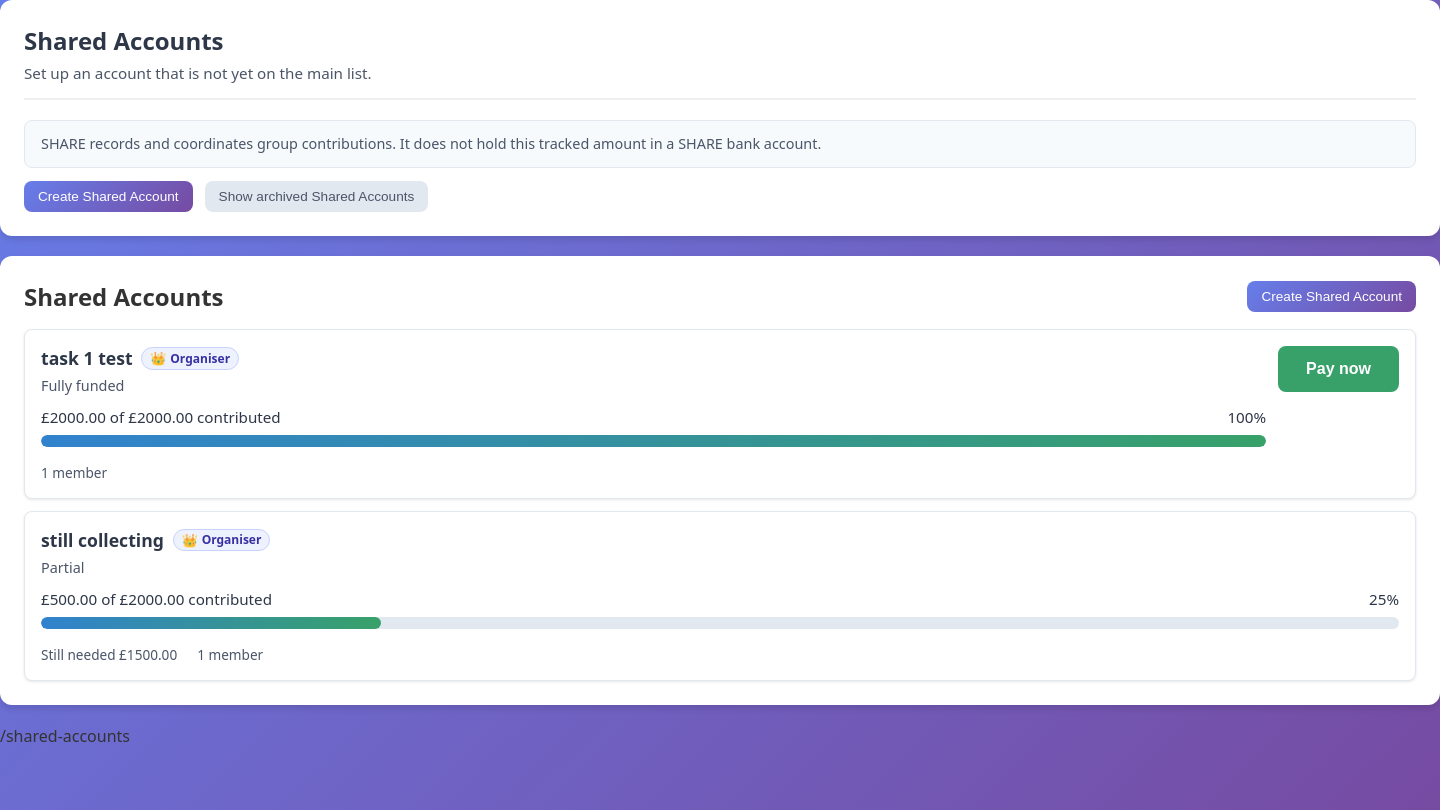
SharedAccounts list Pay now › opens the Final payment form for the funded pot
The image size is (1440, 810).
Click the button "Pay now": (1339, 369) [1278,346,1399,392]
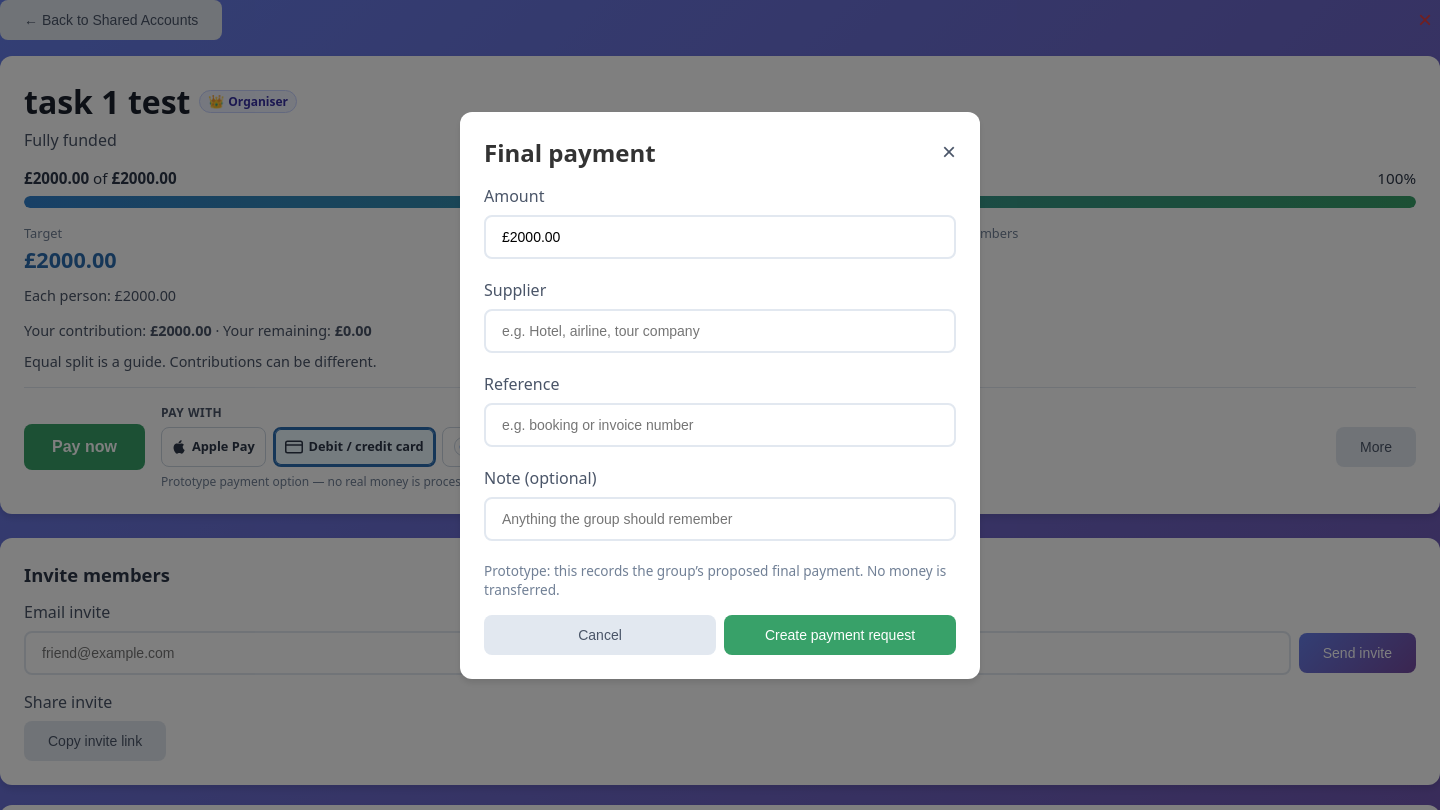
Now the heading "Final payment" is shown, box [484,136,656,168]
Now the field labelled "Amount" holds "£2000.00", box [484,214,956,258]
Now the field labelled "Supplier" is shown, box [484,308,956,352]
